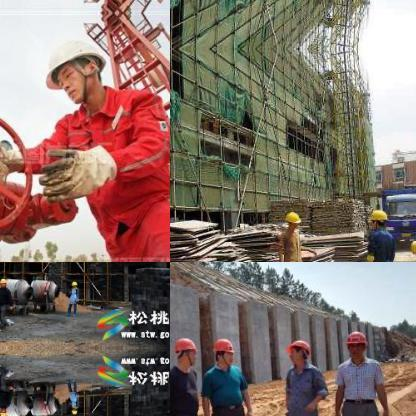Helmet: (36, 26, 112, 108), (172, 333, 198, 367), (283, 336, 311, 366), (342, 328, 367, 358), (210, 335, 233, 367), (366, 205, 388, 225), (282, 210, 300, 228), (405, 236, 415, 256), (0, 274, 9, 289), (0, 404, 9, 415), (68, 278, 77, 286), (68, 406, 77, 414)
